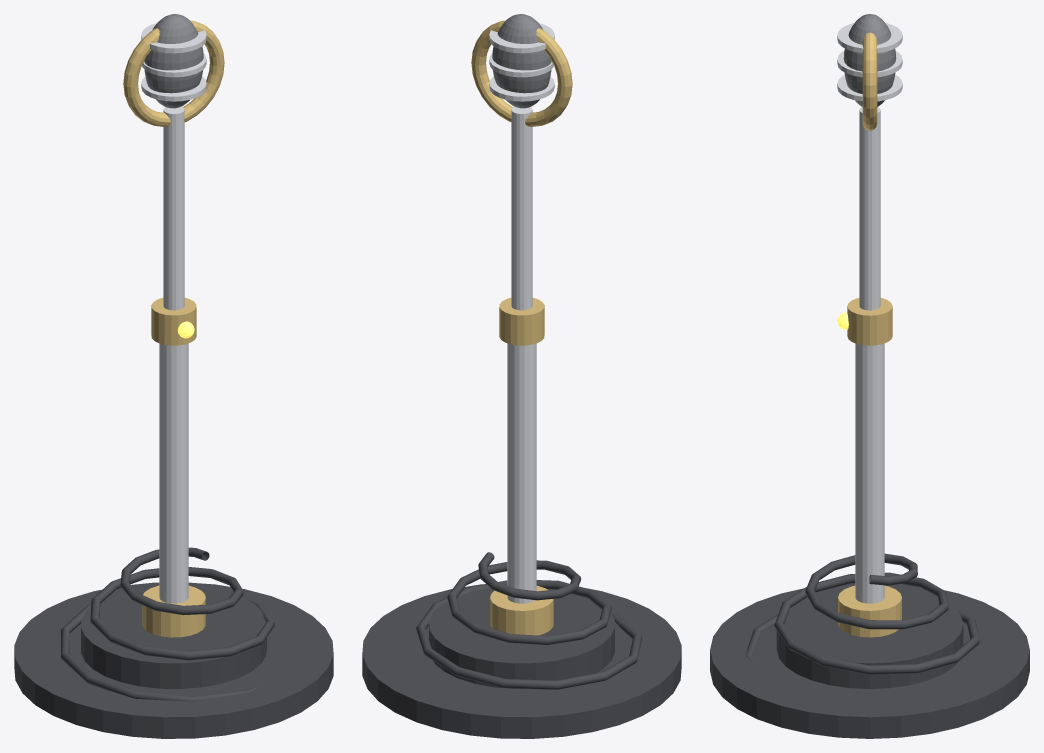
Rendered from studio404-broadcast-mic.glb.
3 views of the same model, side by side, from view 1: azimuth 30°, elevation 25°; view 2: azimuth 150°, elevation 25°; view 3: azimuth 270°, elevation 25° (orthographic).
Parts seen in each view (by area): view 1: MicBaseFoot, MicBaseCollar, StandLowerTube, CoiledXlrCord, StandUpperTube, MicYokeRing, RibbonCapsule, MicClutchRing, StandClutchCollar, CapsuleBand_1.05, CapsuleBand_0.97, CapsuleBand_1.01; view 2: MicBaseFoot, MicBaseCollar, CoiledXlrCord, StandLowerTube, StandUpperTube, MicYokeRing, RibbonCapsule, MicClutchRing, StandClutchCollar, CapsuleBand_1.05, CapsuleBand_0.97, CapsuleBand_1.01; view 3: MicBaseFoot, MicBaseCollar, StandLowerTube, CoiledXlrCord, StandUpperTube, RibbonCapsule, MicClutchRing, StandClutchCollar, MicYokeRing, CapsuleBand_1.05, CapsuleBand_0.97, CapsuleBand_1.01.
Boxes of the visible parts, x1,y1,x2,y2 form: MicBaseFoot: (14,582,333,738); MicBaseCollar: (81,585,266,688); StandLowerTube: (159,343,188,603); CoiledXlrCord: (61,547,274,701); StandUpperTube: (163,106,184,310); MicYokeRing: (123,20,224,126); RibbonCapsule: (144,14,203,108); MicClutchRing: (142,585,205,637); StandClutchCollar: (151,297,196,345); CapsuleBand_1.05: (141,23,206,53); CapsuleBand_0.97: (141,76,206,101); CapsuleBand_1.01: (142,54,206,77); MicBaseFoot: (362,584,681,738); MicBaseCollar: (429,589,614,688); CoiledXlrCord: (416,552,641,689); StandLowerTube: (507,343,536,603); StandUpperTube: (511,106,532,310); MicYokeRing: (471,20,572,126); RibbonCapsule: (492,14,551,108); MicClutchRing: (490,585,553,635); StandClutchCollar: (499,297,544,345); CapsuleBand_1.05: (489,23,554,53); CapsuleBand_0.97: (489,76,554,101); CapsuleBand_1.01: (489,54,553,77); MicBaseFoot: (710,583,1029,738); MicBaseCollar: (776,585,963,688); StandLowerTube: (855,343,884,603); CoiledXlrCord: (746,553,979,674); StandUpperTube: (859,107,880,310); RibbonCapsule: (843,14,896,106); MicClutchRing: (838,585,901,637); StandClutchCollar: (847,298,892,345); MicYokeRing: (862,32,877,130); CapsuleBand_1.05: (837,23,902,52); CapsuleBand_0.97: (837,74,902,101); CapsuleBand_1.01: (837,51,902,77).
Bounding box in the file's own units: 0.48 × 1.09 × 0.48.
